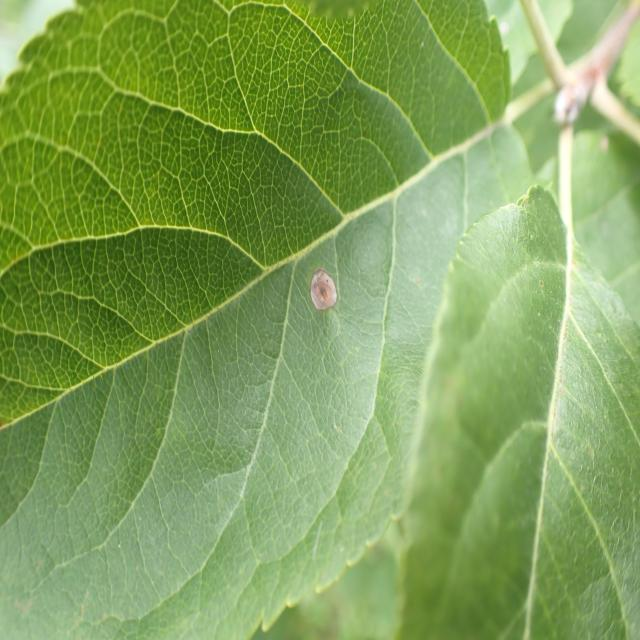Black Rot: (278, 244, 359, 346)
